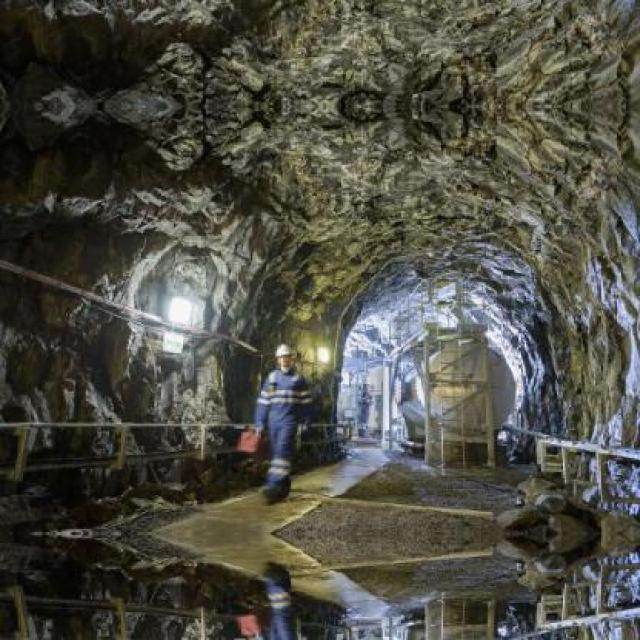helmet: (268, 334, 297, 362)
